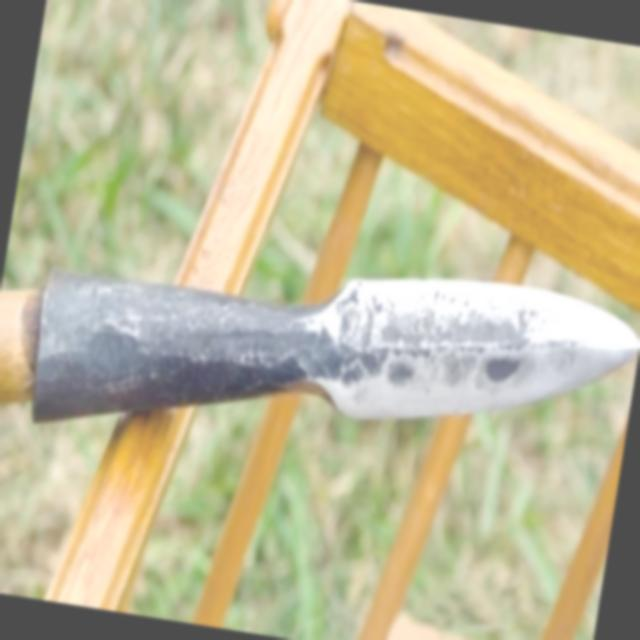spear: (0, 167, 640, 521)
